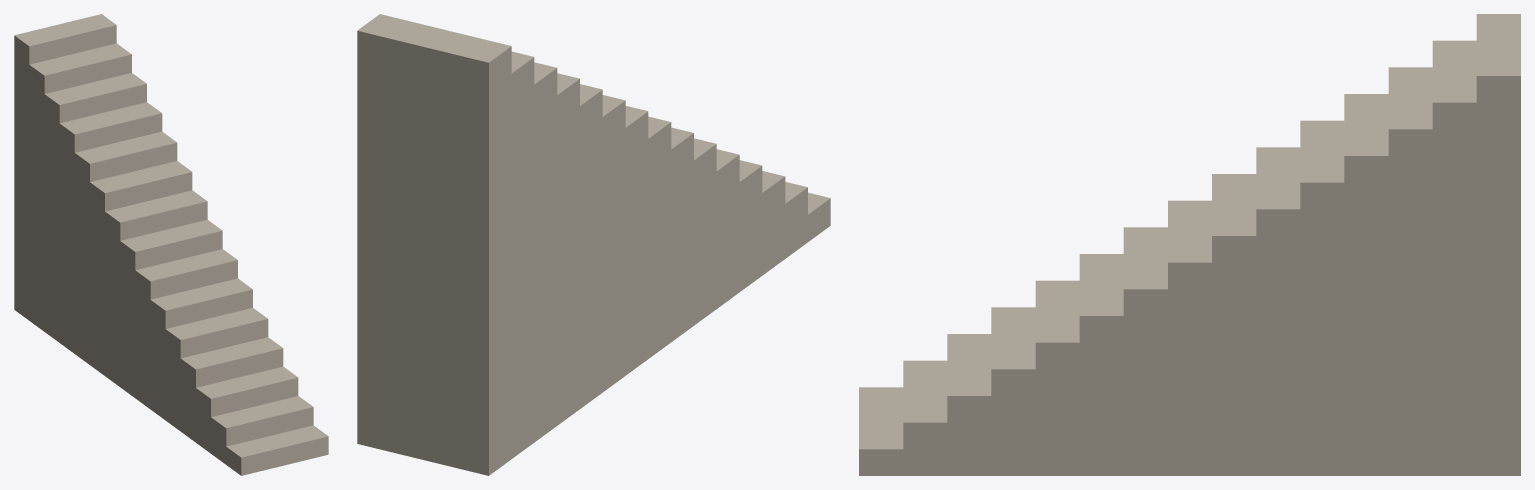
The model's file is staircase_straight_3m.glb.
The picture shows the model from 3 angles, left to right: view 1: azimuth 30°, elevation 25°; view 2: azimuth 150°, elevation 25°; view 3: azimuth 270°, elevation 25°; orthographic projection. The views are drawn at different scales.
Visible parts, largest first — view 1: staircase_straight_3m; view 2: staircase_straight_3m; view 3: staircase_straight_3m.
Boxes of the visible parts, box(x1,y1,x2,y2) form: staircase_straight_3m: box(14, 14, 328, 475); staircase_straight_3m: box(357, 14, 830, 475); staircase_straight_3m: box(859, 14, 1520, 475).
Bounding box in the file's own units: 1 × 3 × 4.5.
